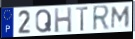2: (17, 9, 32, 34)
H: (53, 7, 73, 34)
M: (110, 6, 131, 30)
Q: (35, 8, 53, 34)
R: (92, 4, 111, 33)
T: (75, 6, 90, 33)
